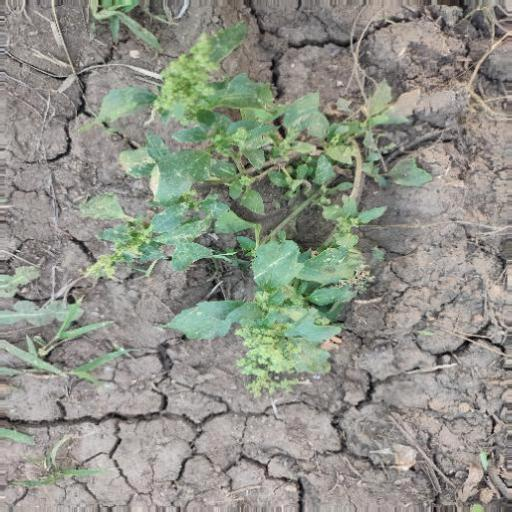weed: (99, 64, 439, 406)
